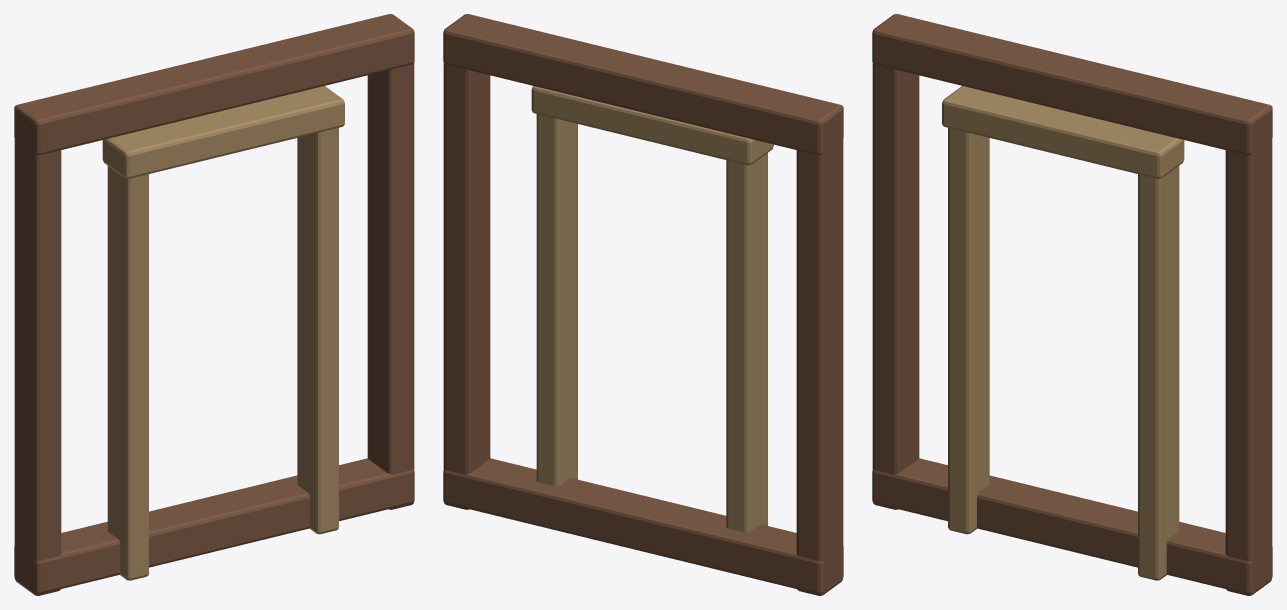
The model's file is wall_passage_2m__structure.glb.
The picture shows the model from 3 angles, left to right: view 1: azimuth 30°, elevation 25°; view 2: azimuth 150°, elevation 25°; view 3: azimuth 330°, elevation 25°; orthographic projection.
Visible parts, largest first — view 1: wall_passage_2m__structure__mesh_00; view 2: wall_passage_2m__structure__mesh_00; view 3: wall_passage_2m__structure__mesh_00.
Part boxes in pixels (x1,y1,x2,y2): wall_passage_2m__structure__mesh_00: (14, 14, 414, 595); wall_passage_2m__structure__mesh_00: (443, 14, 843, 595); wall_passage_2m__structure__mesh_00: (872, 14, 1272, 595).
Size of the model in its own units: 2 by 2.4 by 0.31.
